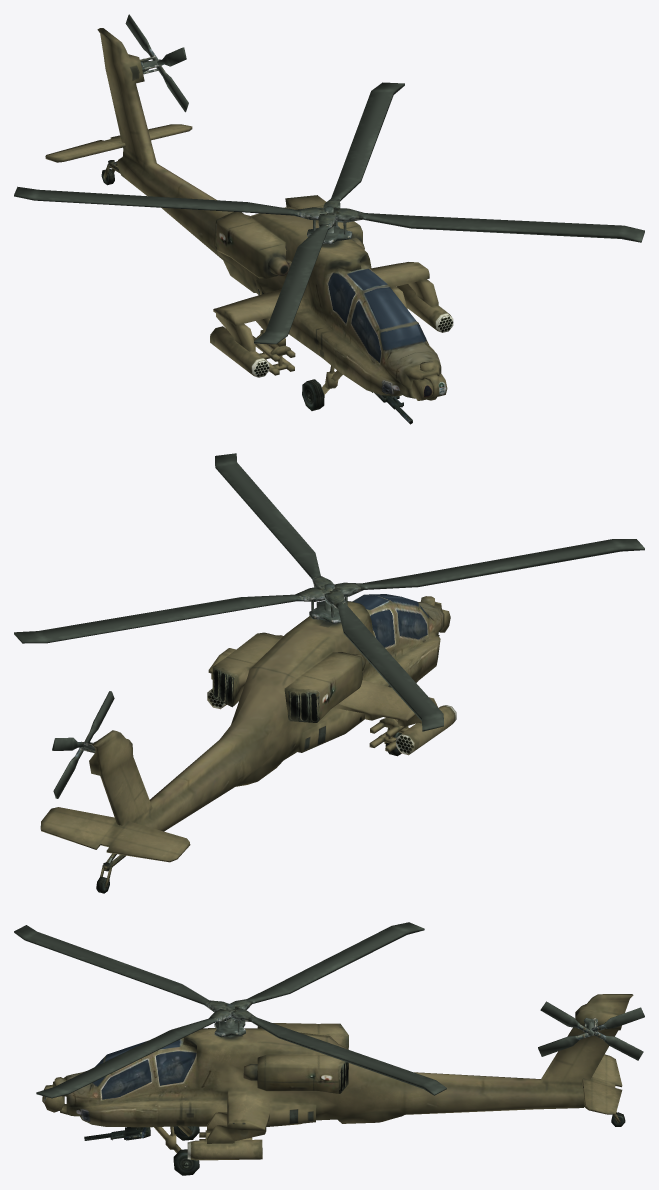
Rendered from helicop.glb.
3 views of the same model, one above another, from view 1: azimuth 30°, elevation 25°; view 2: azimuth 150°, elevation 25°; view 3: azimuth 270°, elevation 25° (orthographic). The views are drawn at different scales.
Visible parts, largest first — view 1: Gunship, Rotor, Back_Rotor; view 2: Gunship, Rotor, Back_Rotor; view 3: Gunship, Rotor, Back_Rotor.
Boxes of the visible parts, x1,y1,x2,y2 form: Gunship: (45, 28, 453, 424); Rotor: (14, 82, 644, 344); Back_Rotor: (125, 14, 188, 112); Gunship: (40, 594, 456, 893); Rotor: (14, 453, 644, 731); Back_Rotor: (52, 691, 114, 798); Gunship: (42, 994, 633, 1175); Rotor: (14, 922, 446, 1098); Back_Rotor: (538, 1001, 644, 1060).
Bounding box in the file's own units: 12.4 × 5.35 × 18.07.
Materials: 1 (1 with a texture image).
